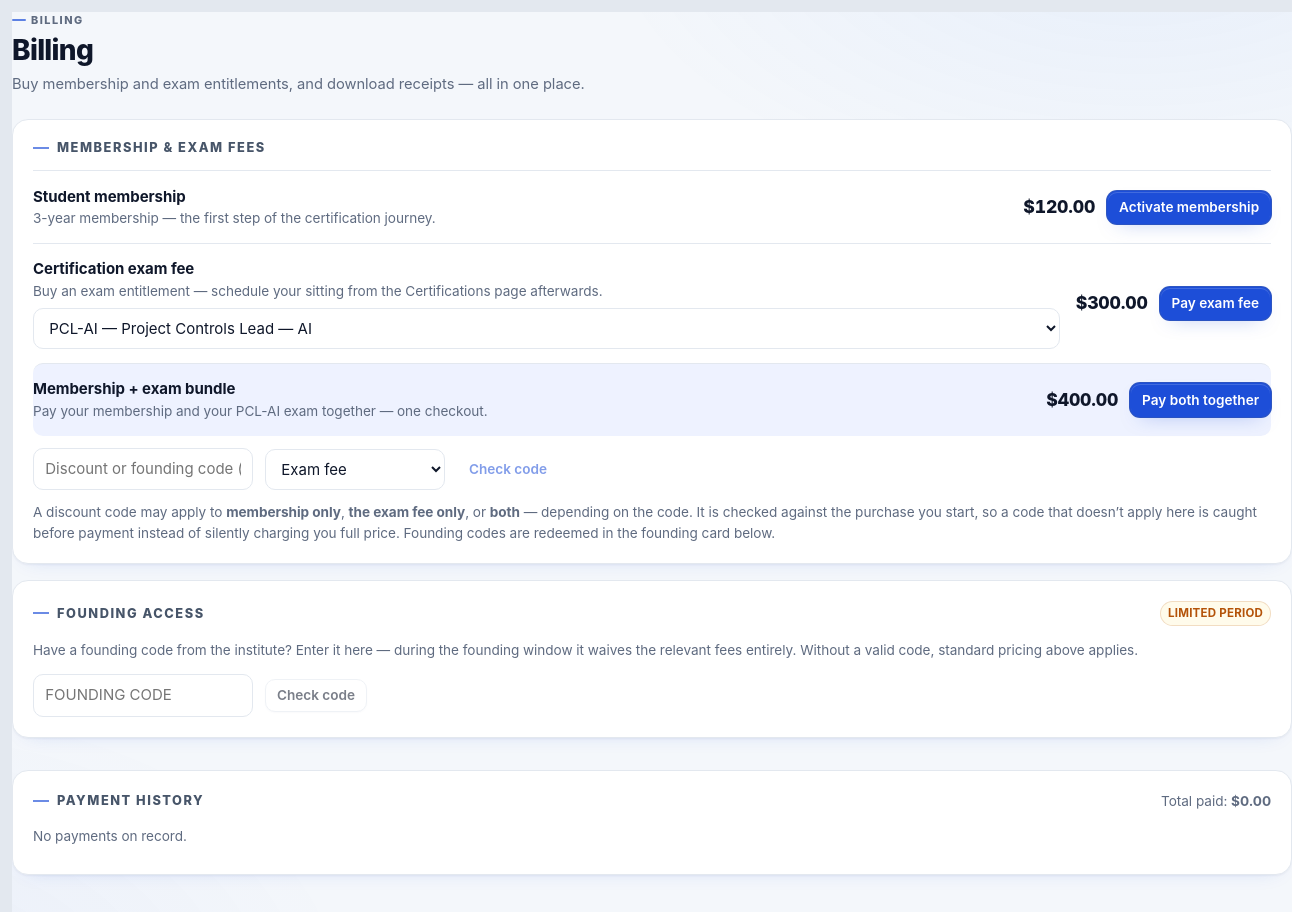
Test case: Billing (in-portal purchasing) › validates exam codes with the selected certification and renders the discount preview
Type "EXAM15" into the field labelled "Discount or founding code" at (143, 469), box [33,448,253,490]
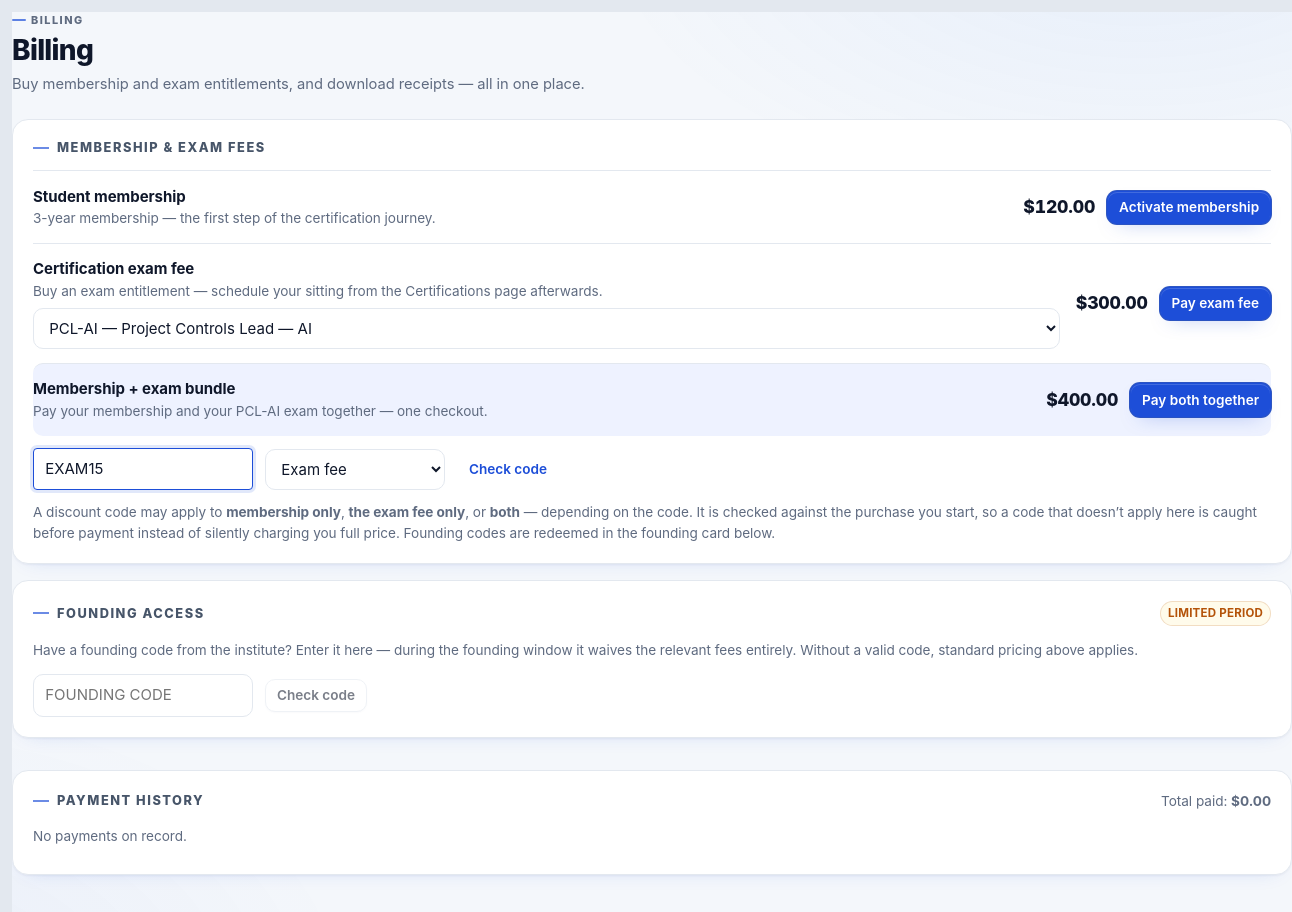
Click the button "Pay exam fee" at (1215, 304), box [1160,287,1271,320]
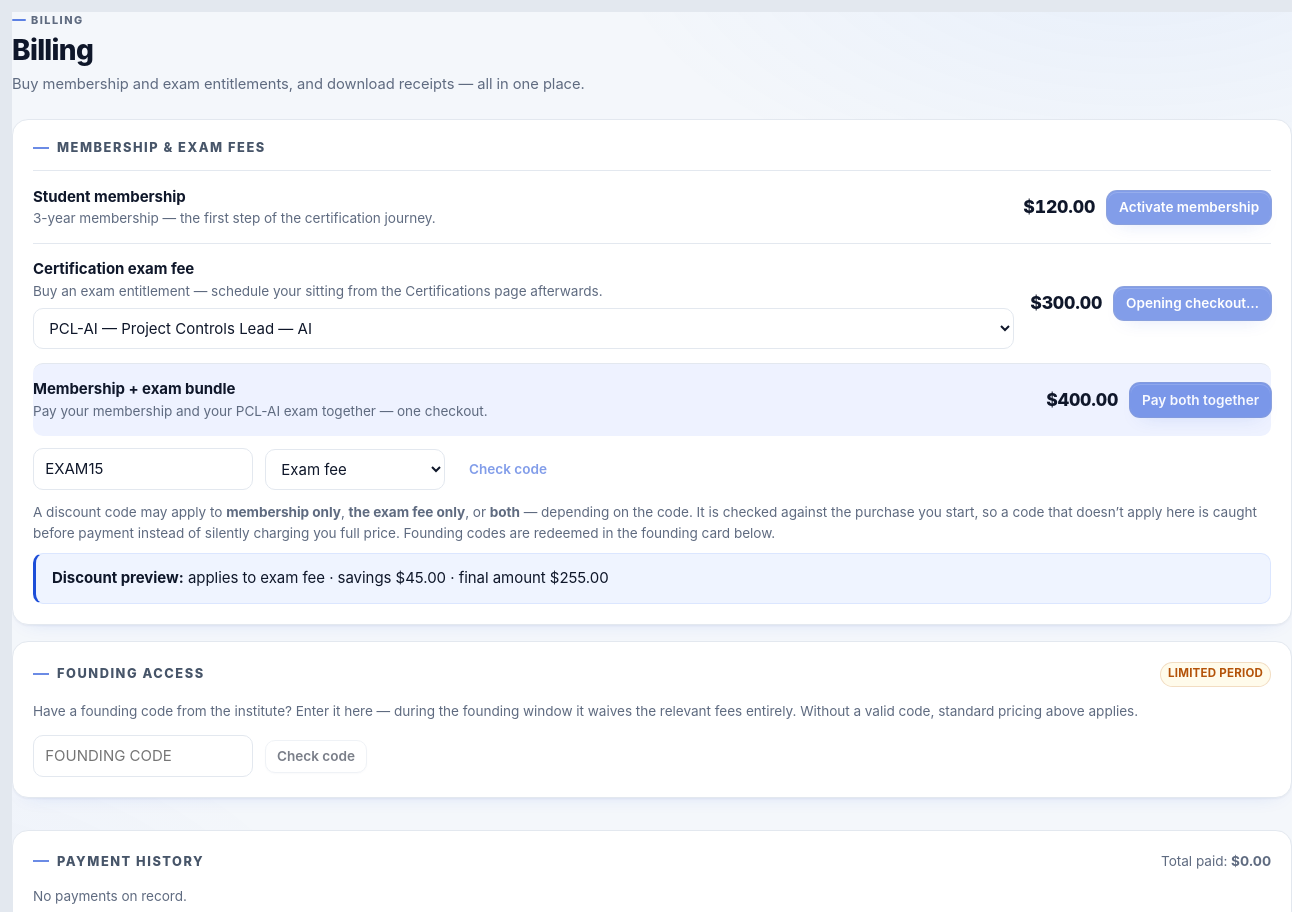
Expected: the text "Discount preview: applies to exam fee · savings $45.00 · final amount $255.00" is shown, [33,553,1271,604]
